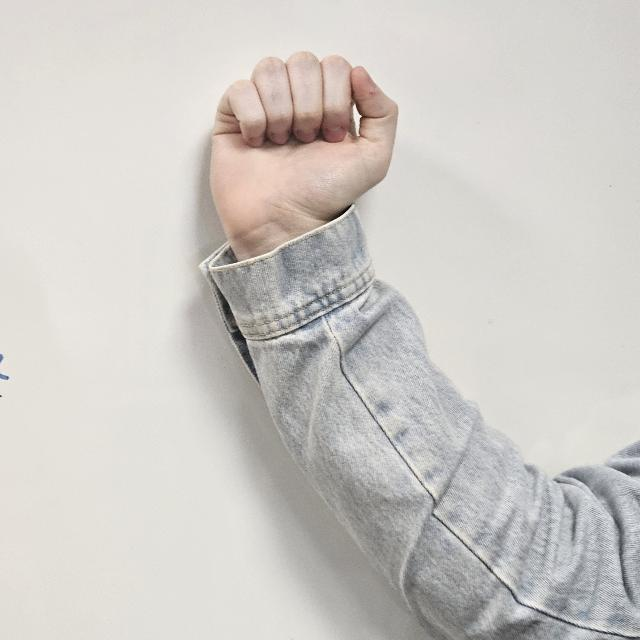Quadro: (206, 47, 398, 235)
